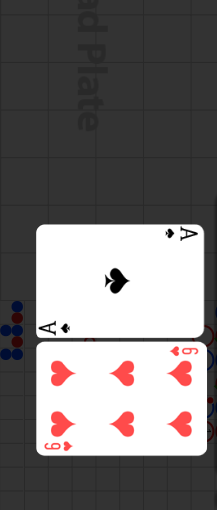6H: (168, 346, 200, 358)
AS: (38, 319, 73, 336)
